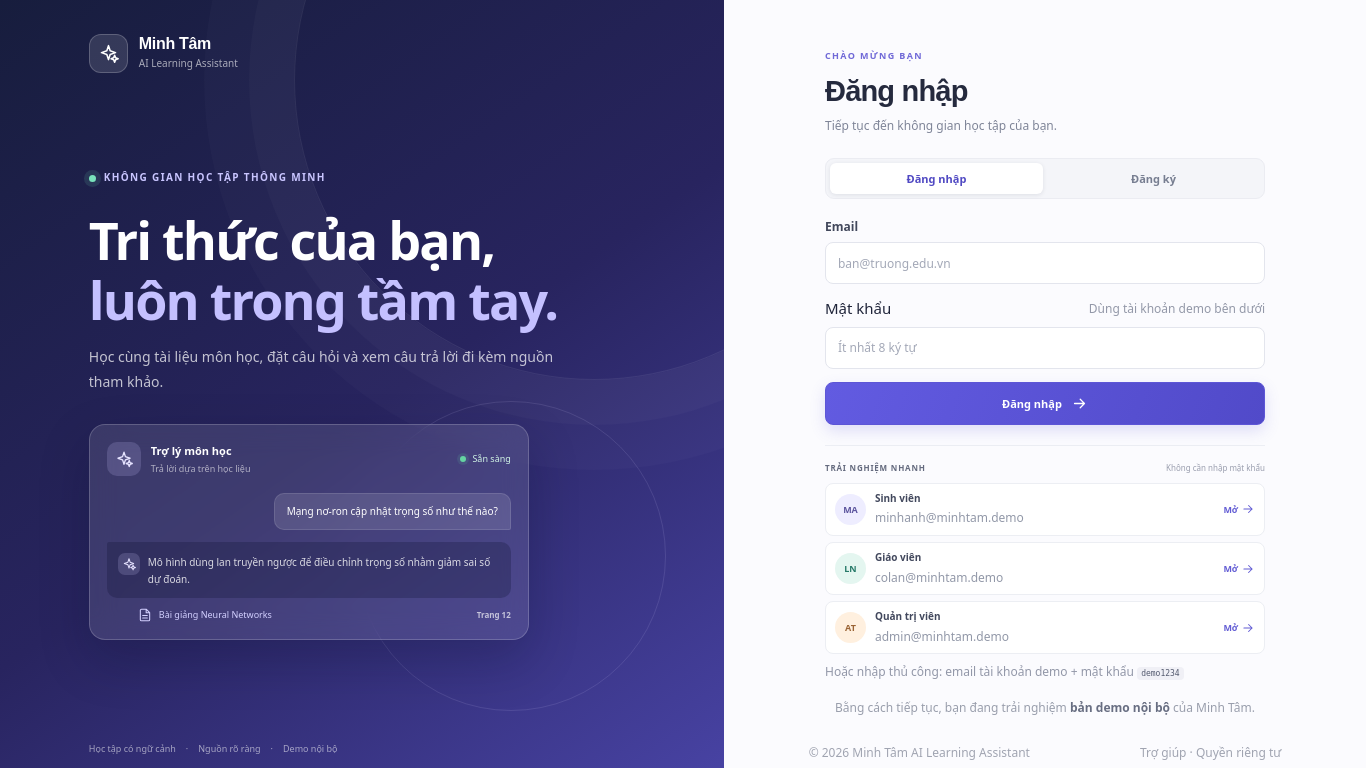
Test: role-based demo routes › does not offer admin as a public signup role
Click the button "Đăng ký" at (1154,178), box [1047,163,1260,194]
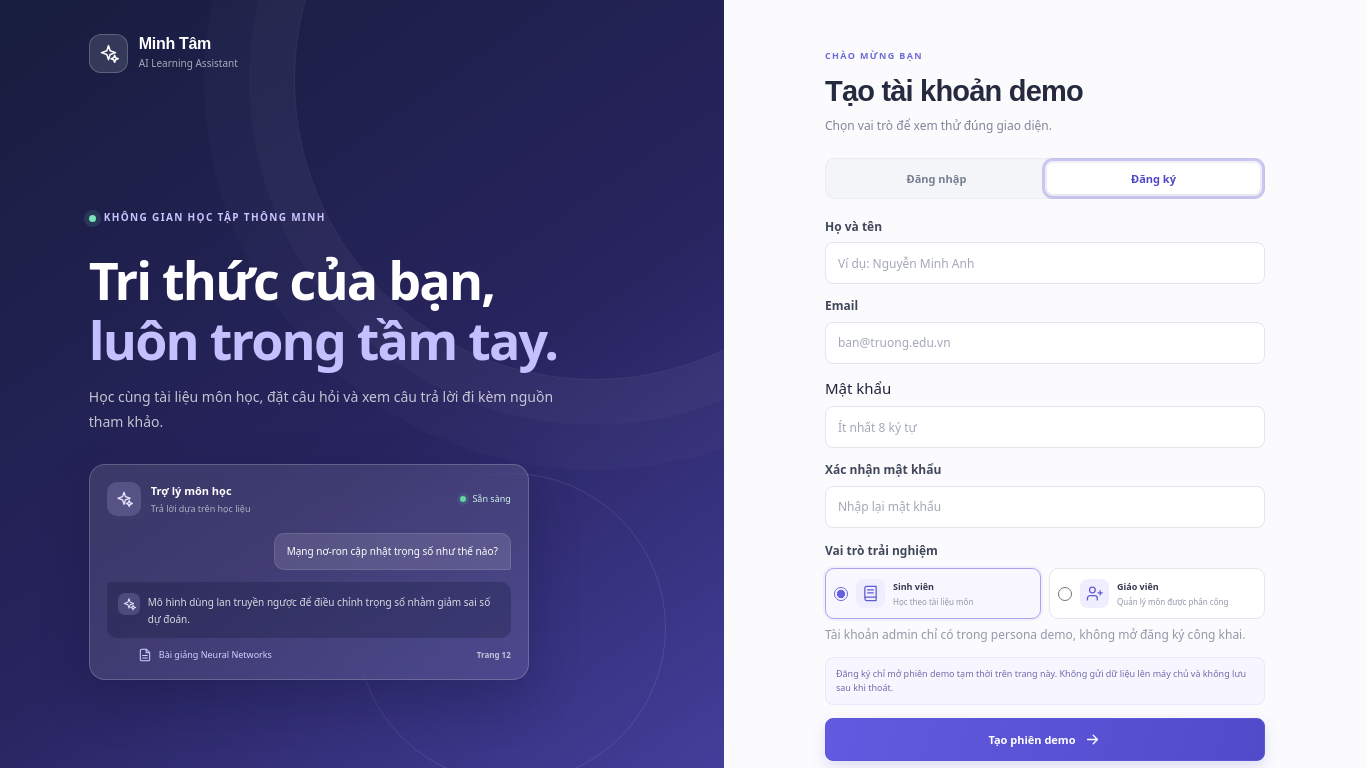
Now the heading "Tạo tài khoản demo" is shown, box [825,75,1083,107]
Now the radio button labelled "Sinh viên Học theo tài liệu môn" is shown, box [834,587,848,601]
Now the radio button labelled "Giáo viên Quản lý môn được phân công" is shown, box [1058,587,1072,601]
